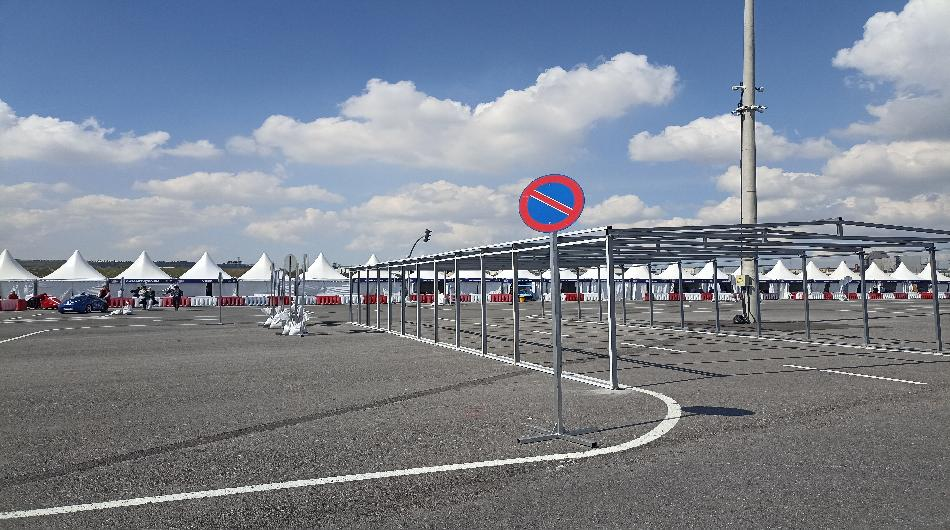park_yapilmaz_1: (520, 175, 587, 233)
